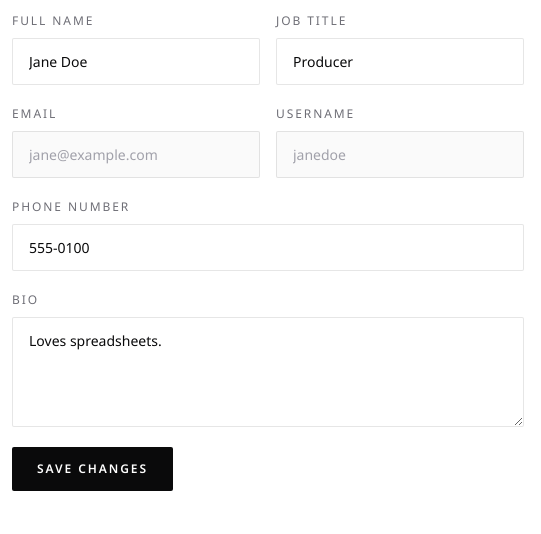
EditProfileForm › shows a validation error instead of submitting when full name is cleared
Clear the field labelled "Full name" at (136, 62), box [12,38,260,85]
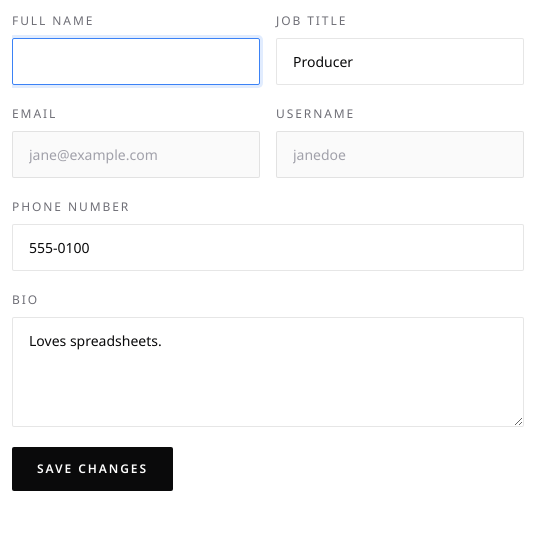
Click the button "Save changes" at (92, 469), box [12,447,173,491]
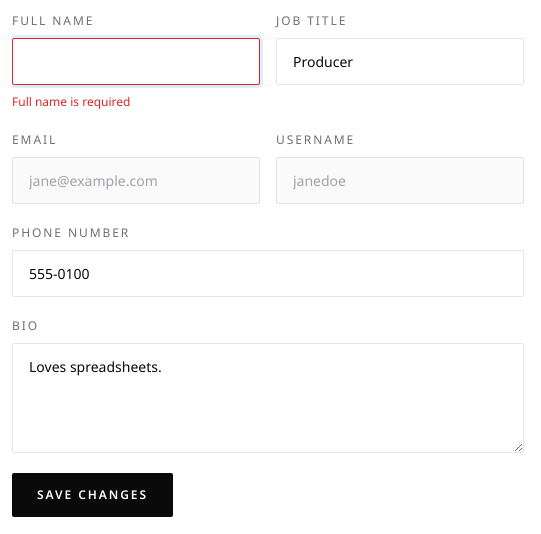
Expected: the text "Full name is required" is shown, [12,93,130,110]
